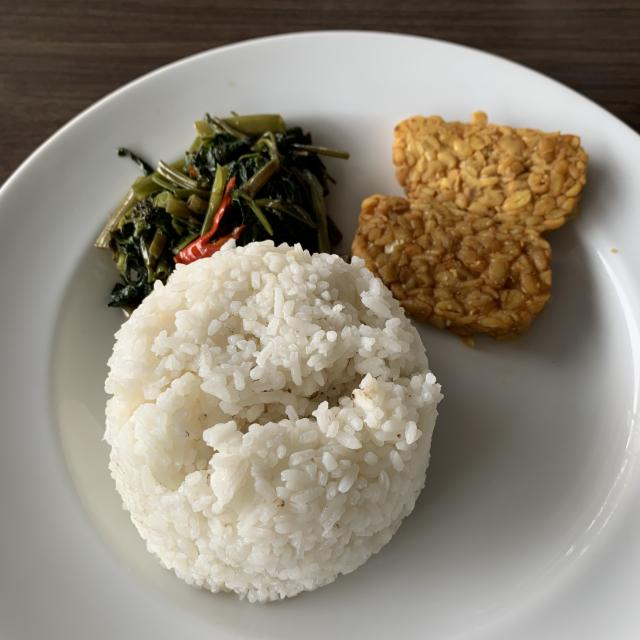Wet Waste: (102, 240, 448, 603), (92, 109, 353, 309), (356, 189, 551, 331), (390, 113, 593, 233)
